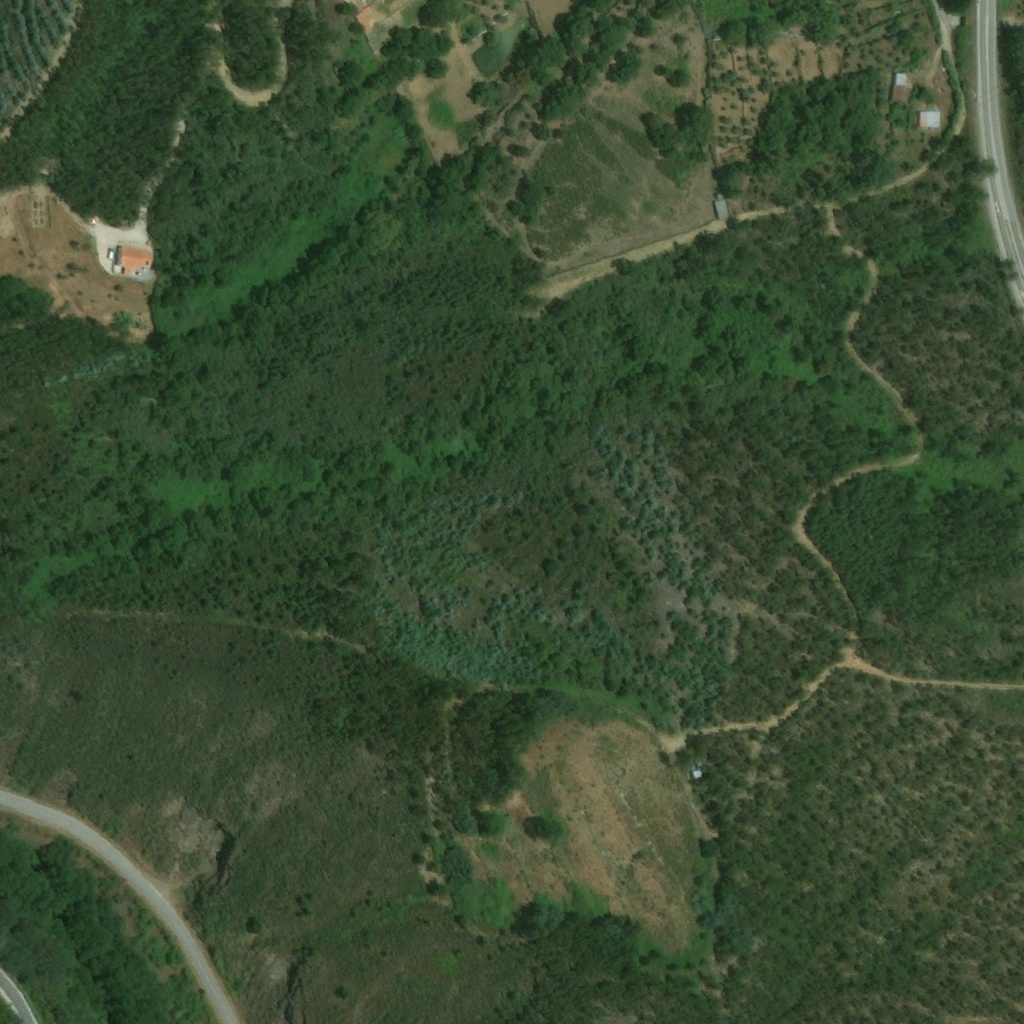0 no-damage: (113, 246, 155, 279), (890, 71, 911, 105), (917, 111, 942, 132), (715, 198, 729, 221), (692, 769, 703, 781)
